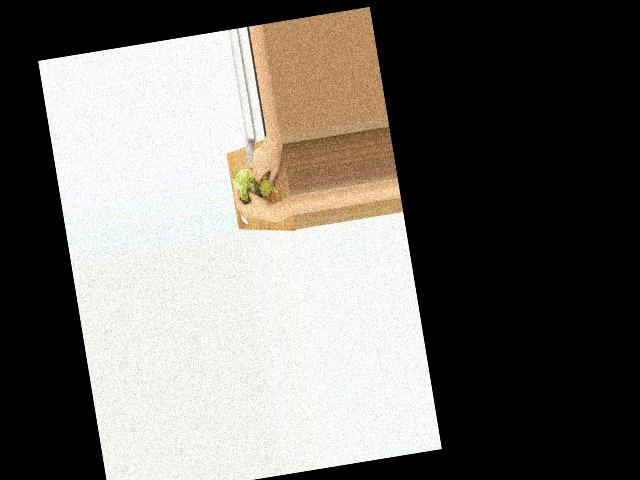lettuce: (231, 166, 259, 203)
